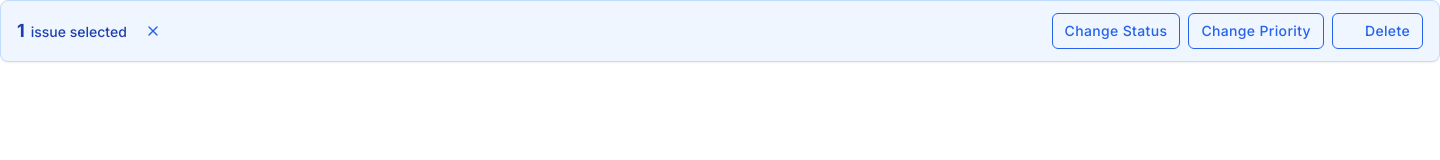
Test case: BulkActionsBar › shows singular "issue" in delete confirmation when count is 1
The width and height of the screenshot is (1440, 160).
Click the button with aria-label "delete selected issues".
click(1378, 31)  # box [1332,13,1423,48]
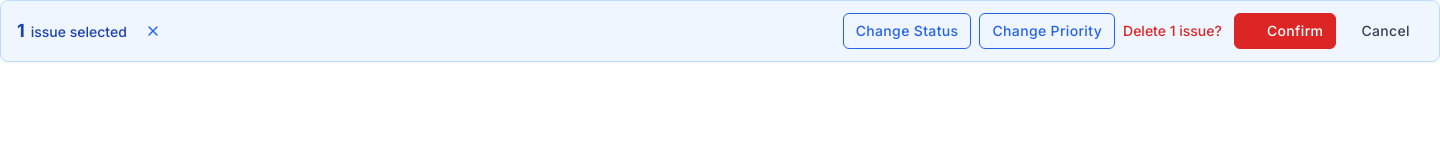
Expected: the text "Delete 1 issue?" is shown, [1123,20,1222,41]
